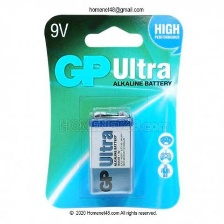battery: (87, 108, 134, 198)
book: (39, 7, 186, 212)
